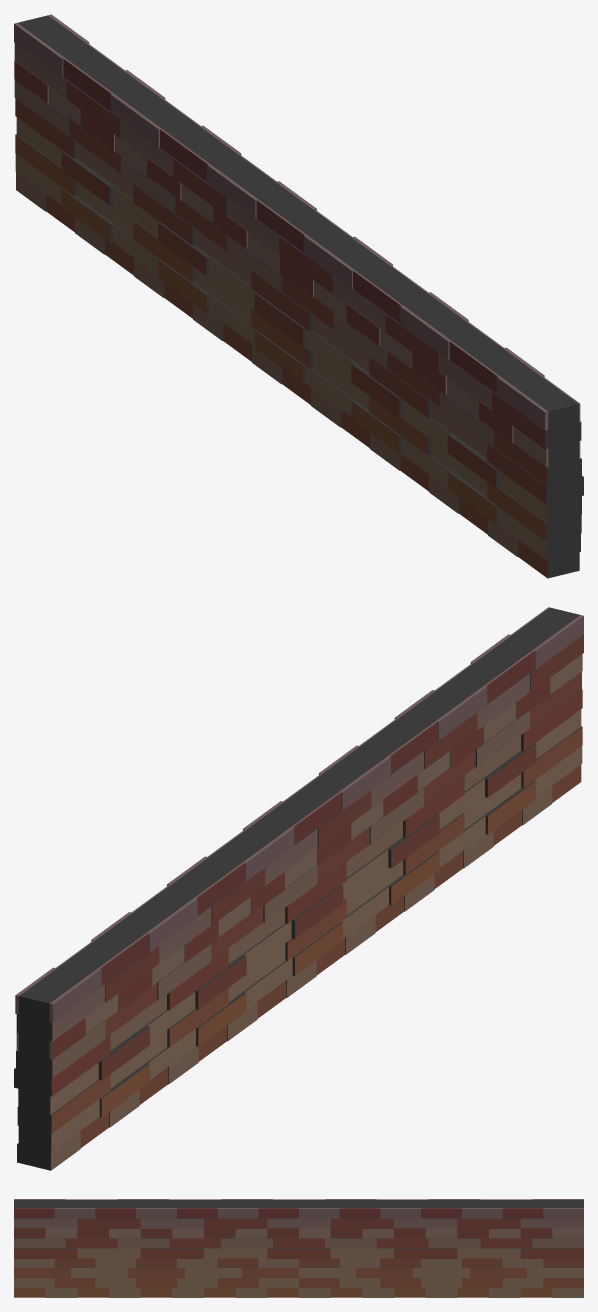
File: Hekwerk.fbx
3 views of the same model, one above another, from view 1: azimuth 30°, elevation 25°; view 2: azimuth 150°, elevation 25°; view 3: azimuth 270°, elevation 25° (orthographic). The views are drawn at different scales.
Parts seen in each view (by area): view 1: Cube, Dark, Cube.017, Cube.025, Cube.029, Cube.021, Cube.001, Cube.011, Cube.013, Cube.010, Cube.033, Cube.014 (+10 smaller); view 2: Cube, Dark, Cube.017, Cube.025, Cube.029, Cube.021, Cube.001, Cube.011, Cube.013, Cube.010, Cube.033, Cube.014 (+10 smaller); view 3: Cube, Dark, Cube.010, Cube.013, Cube.016, Light, Cube.023, Cube.031, Cube.012, Cube.019, Cube.032, Cube.027 (+11 smaller).
Boxes of the visible parts, bbox=[...] form: Cube: bbox=[17, 15, 578, 578]; Dark: bbox=[14, 14, 580, 430]; Cube.017: bbox=[15, 98, 546, 504]; Cube.025: bbox=[15, 135, 546, 541]; Cube.029: bbox=[15, 154, 546, 559]; Cube.021: bbox=[16, 117, 547, 522]; Cube.001: bbox=[67, 81, 544, 448]; Cube.011: bbox=[14, 61, 512, 443]; Cube.013: bbox=[14, 79, 492, 446]; Cube.010: bbox=[14, 43, 492, 409]; Cube.033: bbox=[16, 172, 517, 556]; Cube.014: bbox=[69, 118, 546, 485]; Cube: bbox=[19, 607, 579, 1170]; Dark: bbox=[15, 607, 583, 1022]; Cube.017: bbox=[51, 690, 582, 1096]; Cube.025: bbox=[51, 727, 582, 1133]; Cube.029: bbox=[51, 746, 582, 1151]; Cube.021: bbox=[50, 709, 581, 1114]; Cube.001: bbox=[106, 634, 583, 1002]; Cube.011: bbox=[52, 678, 550, 1059]; Cube.013: bbox=[52, 711, 529, 1077]; Cube.010: bbox=[52, 673, 530, 1040]; Cube.033: bbox=[51, 786, 552, 1170]; Cube.014: bbox=[105, 671, 581, 1037]; Cube: bbox=[14, 1200, 583, 1207]; Dark: bbox=[14, 1199, 583, 1218]; Cube.010: bbox=[14, 1218, 583, 1228]; Cube.013: bbox=[14, 1238, 583, 1248]; Cube.016: bbox=[14, 1249, 583, 1258]; Light: bbox=[14, 1208, 543, 1218]; Cube.023: bbox=[14, 1268, 526, 1278]; Cube.031: bbox=[14, 1287, 552, 1297]; Cube.012: bbox=[45, 1228, 583, 1238]; Cube.019: bbox=[14, 1258, 543, 1268]; Cube.032: bbox=[45, 1288, 583, 1297]; Cube.027: bbox=[14, 1278, 543, 1287].
Size of the model in its own units: 0.4974 by 2 by 11.54.
